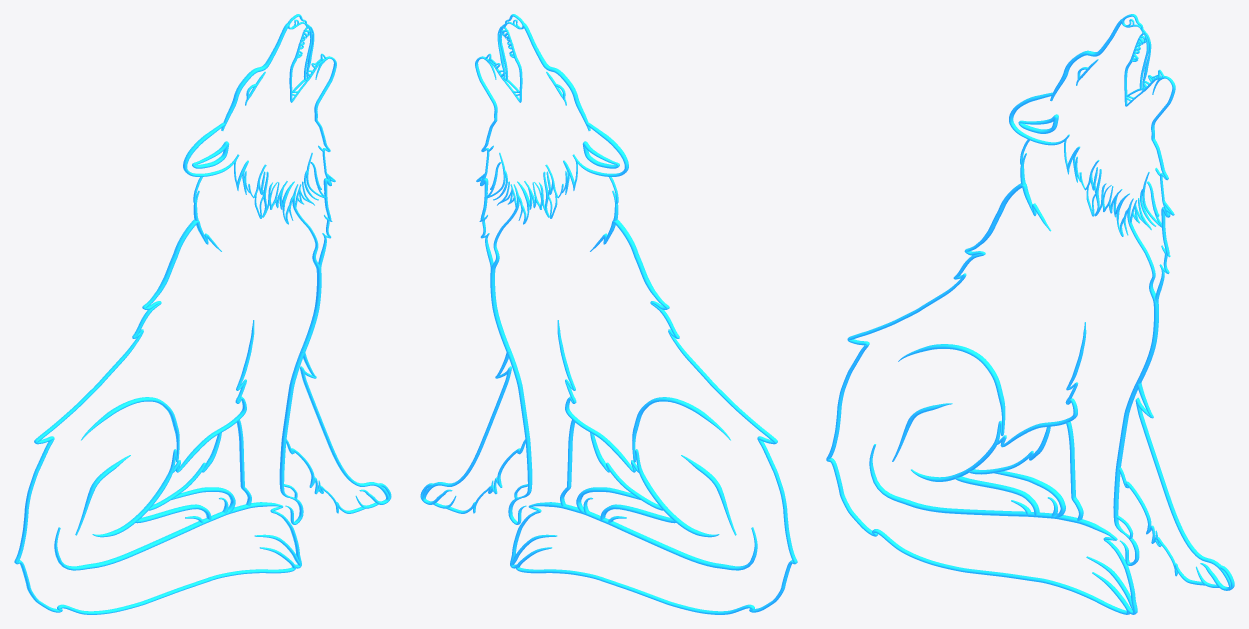
File: wolf-constellation-dhazele-new-mat.glb
The picture shows the model from 3 angles, left to right: view 1: azimuth 30°, elevation 25°; view 2: azimuth 150°, elevation 25°; view 3: azimuth 330°, elevation 25°; orthographic projection. The views are drawn at different scales.
Visible parts, largest first — view 1: BezierCurve.001; view 2: BezierCurve.001; view 3: BezierCurve.001.
Boxes of the visible parts, x1,y1,x2,y2 form: BezierCurve.001: [14, 14, 391, 614]; BezierCurve.001: [420, 14, 797, 614]; BezierCurve.001: [826, 14, 1234, 614].
Bounding box in the file's own units: 3.39 × 4.78 × 0.0478.
